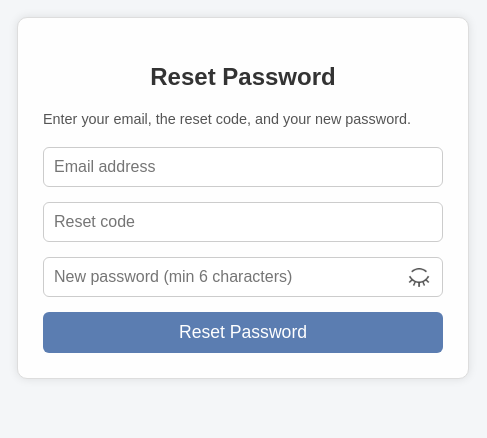
Test: ResetPasswordPage › shows network/server error on fetch rejection
Type "test@example.com" into the field with placeholder "Email address". click: (243, 167)
box: [43,147,443,187]
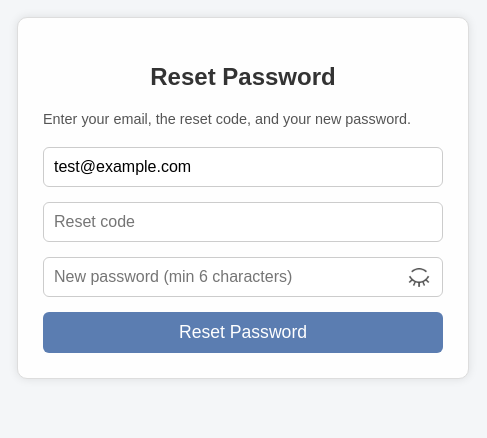
Type "123456" into the field with placeholder "Reset code". click: (243, 222)
box: [43,202,443,242]
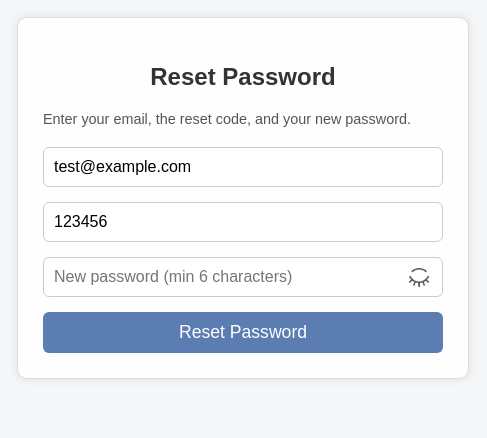
Type "password123" into the password field with placeholder "New password (min 6 characters)". click: (243, 277)
box: [43,257,443,297]
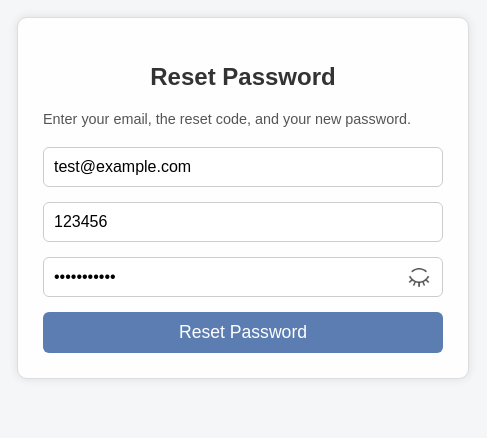
Click the button "Reset Password". click: (243, 332)
box: [43,312,443,353]
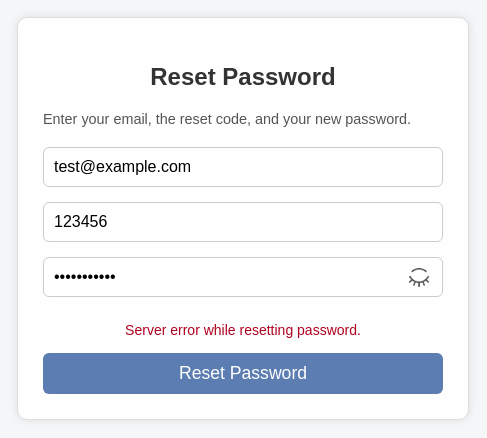
expect the text "Server error while resetting password." is shown: met, box [125,322,361,338]
